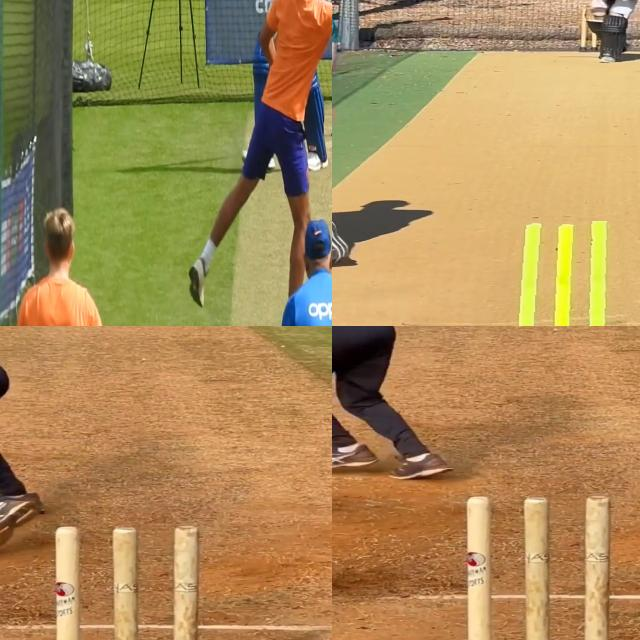Stumps: (466, 493, 613, 640), (43, 523, 210, 640), (508, 221, 633, 326)
